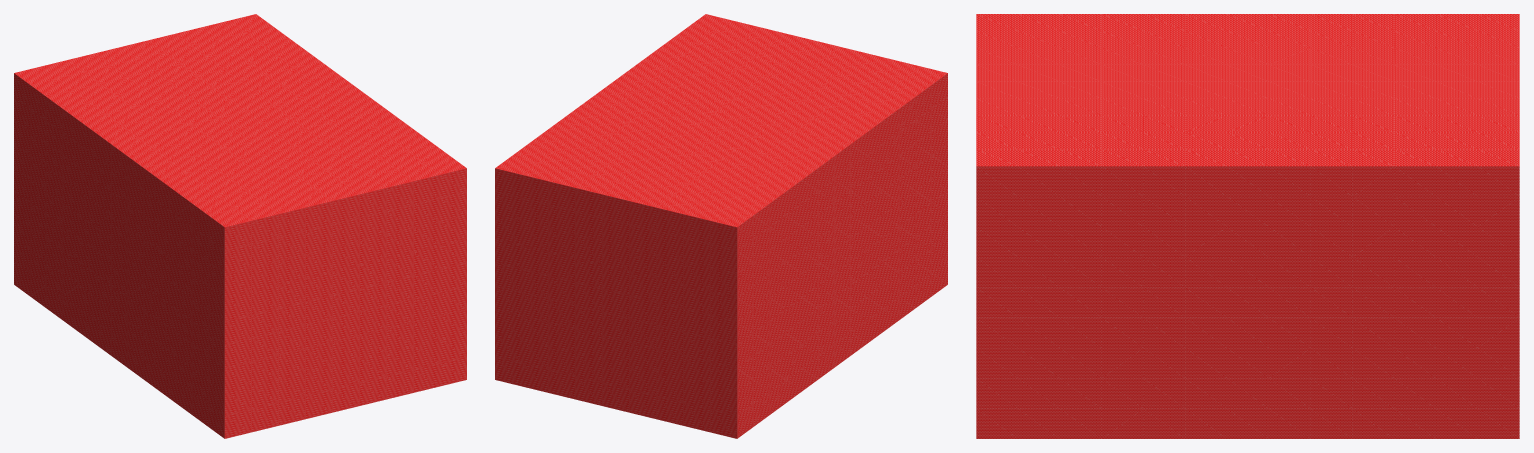
File: DeadCollider.fbx
3 renders of one model, left to right at view 1: azimuth 30°, elevation 25°; view 2: azimuth 150°, elevation 25°; view 3: azimuth 270°, elevation 25°, orthographic. The views are drawn at different scales.
Parts seen in each view (by area): view 1: DeadCollider_0; view 2: DeadCollider_0; view 3: DeadCollider_0.
Part boxes in pixels (x1,y1,x2,y2): DeadCollider_0: (14,14,466,438); DeadCollider_0: (495,14,947,438); DeadCollider_0: (976,14,1519,438).
Bounding box in the file's own units: 114 × 95.58 × 173.
